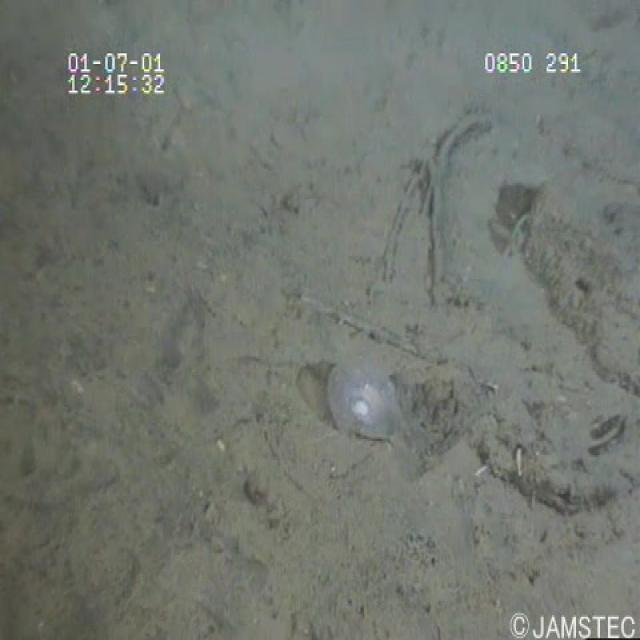plastic: (316, 329, 417, 462)
